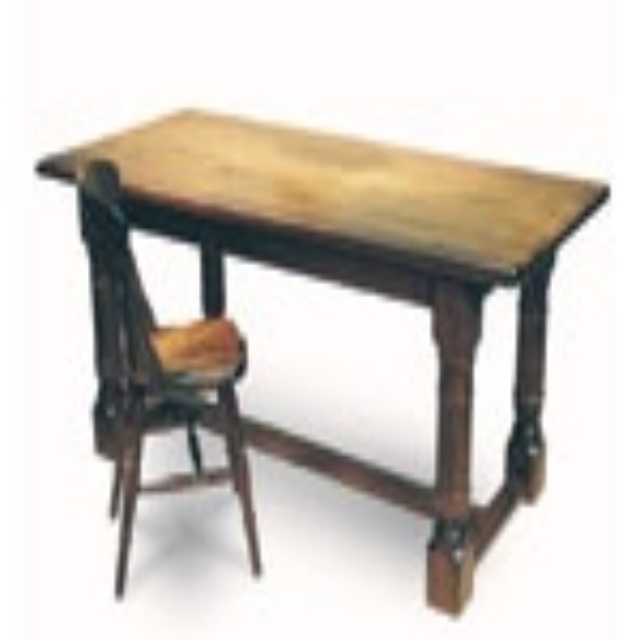obstacle: (38, 109, 606, 608)
